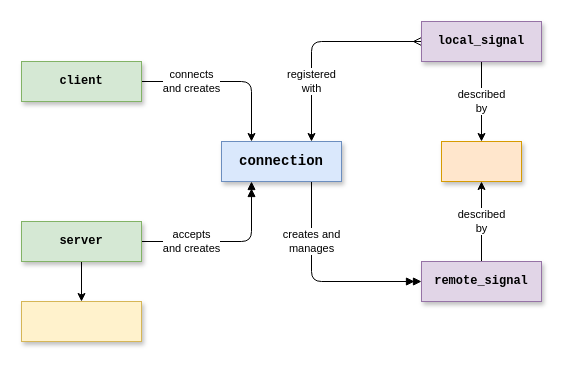
Some shapes in this 565 by 366 pixel diagram are drawn without their labels. Each missing label, with the centre of its shape:
listener: pixel 82 322
metadata: pixel 482 162
